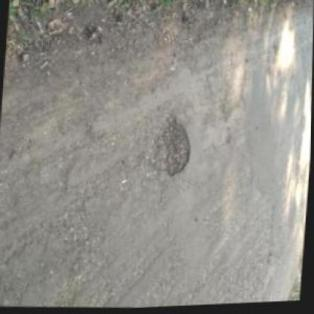Hueco: (156, 111, 195, 181)
